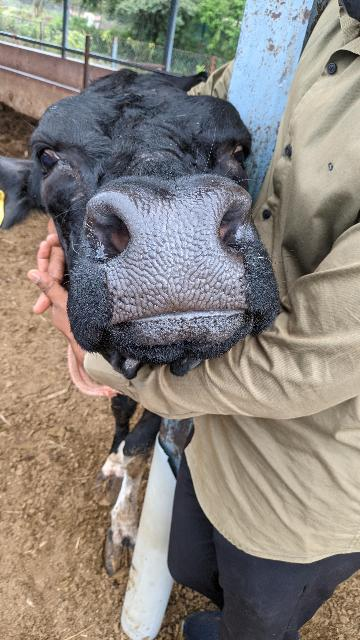Muzzle: (109, 194, 243, 312)
